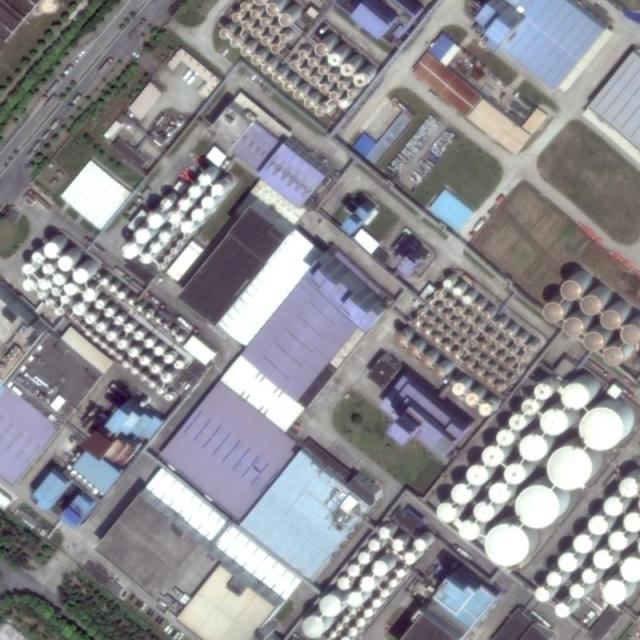vehicle: (127, 16, 147, 42), (132, 50, 140, 58)
